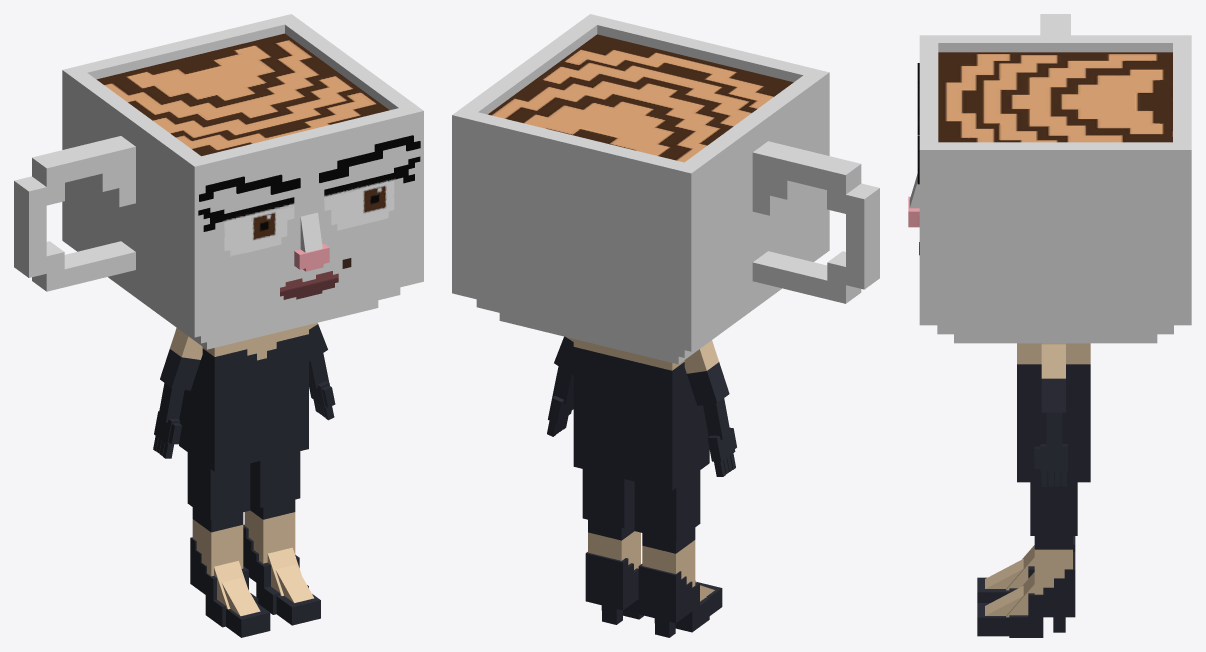
The model's file is expreso.fbx.
3 views of the same model, side by side, from view 1: azimuth 30°, elevation 25°; view 2: azimuth 150°, elevation 25°; view 3: azimuth 270°, elevation 25° (orthographic). The views are drawn at different scales.
Visible parts, largest first — view 1: expreso; view 2: expreso; view 3: expreso.
Part boxes in pixels (left/top/right/bottom): expreso: left=14, top=14, right=423, bottom=637; expreso: left=452, top=14, right=879, bottom=637; expreso: left=908, top=14, right=1191, bottom=637.
Size of the model in its own units: 569 by 824 by 404.
